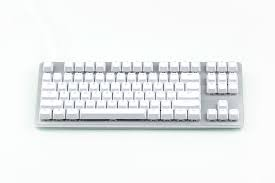keyboard: (15, 48, 263, 170)
